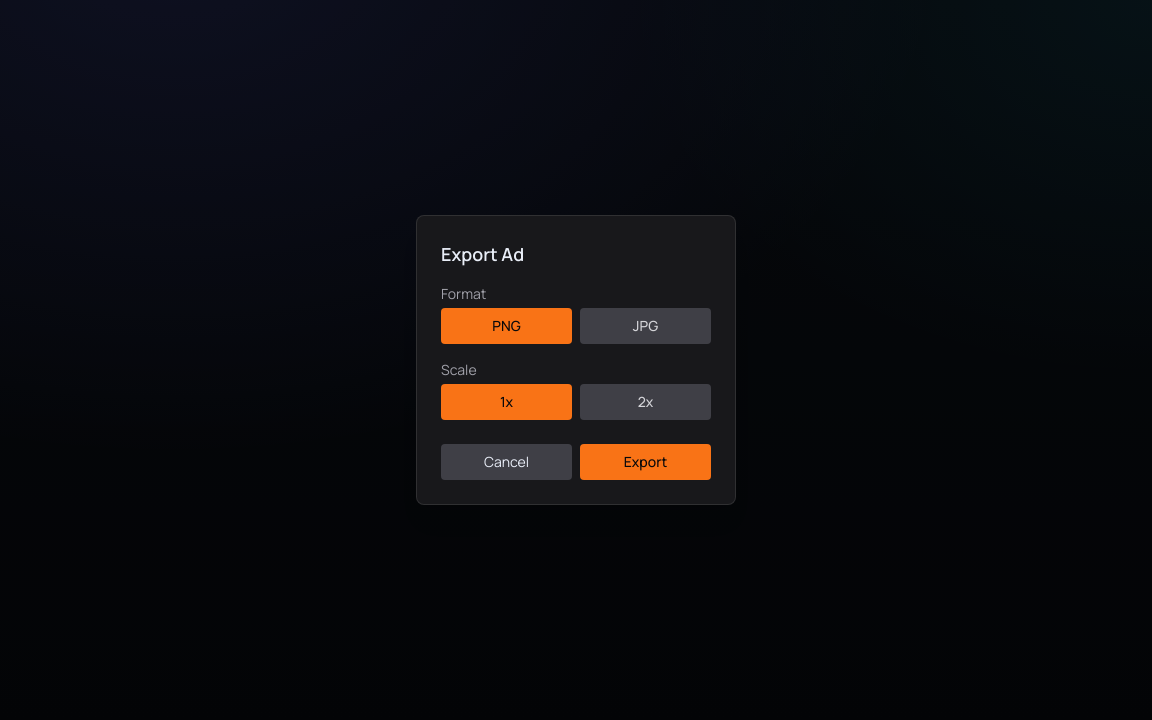
it: ExportDialog › shows quality slider only for JPG format
The image size is (1152, 720).
# Switch to JPG
Step 1. Click the button with test id "format-jpg" → (646,326), box [580,308,711,344]
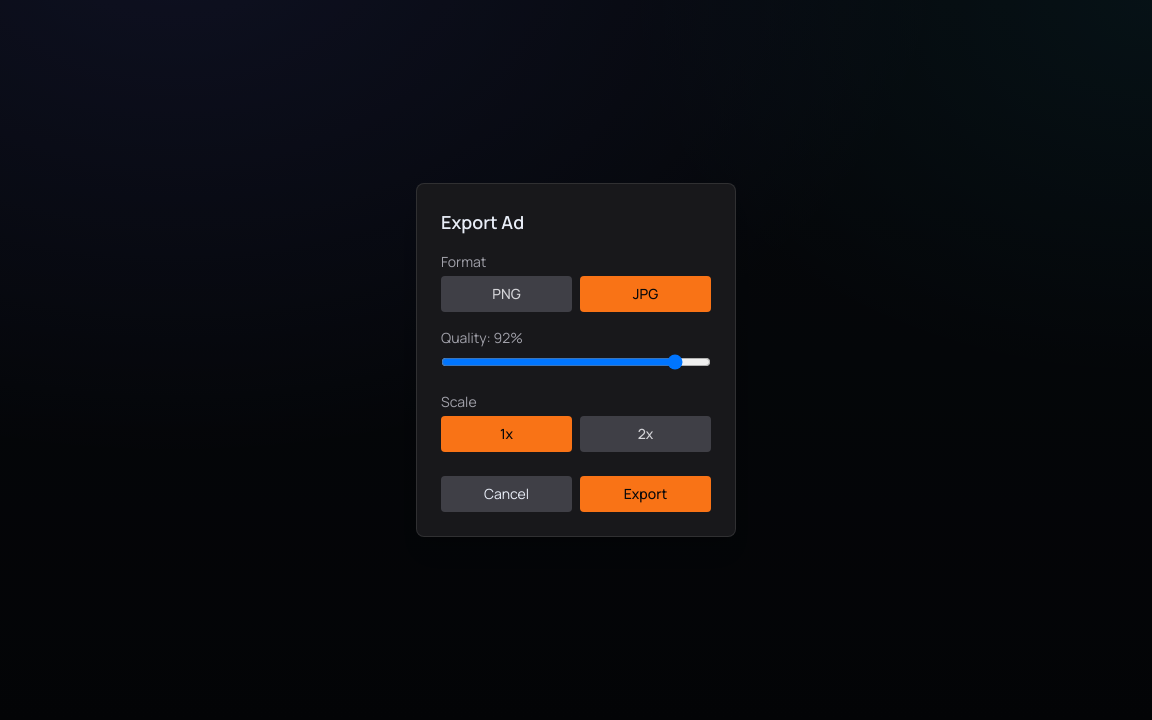
Check: the element with test id "quality-control" is shown, box [441,328,711,376]
